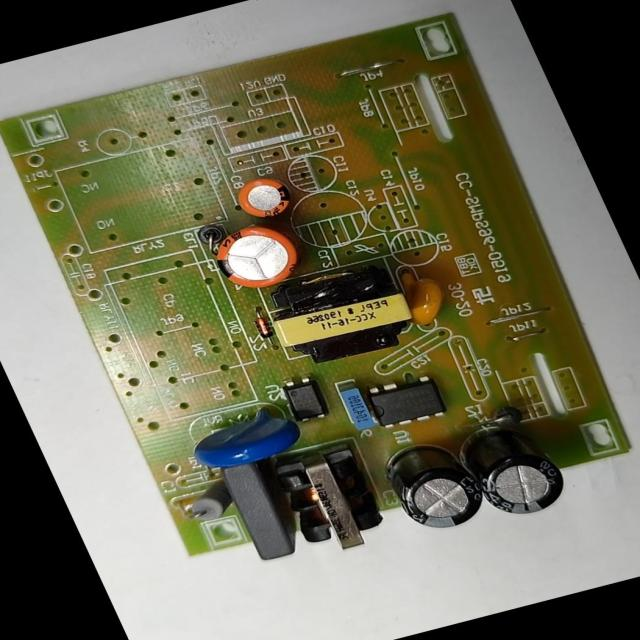Cap1: (202, 216, 308, 297)
Cap2: (230, 171, 299, 224)
Cap3: (373, 432, 497, 538)
Cap4: (456, 418, 577, 524)
MOSFET: (359, 373, 451, 435)
Mov: (178, 398, 310, 476)
Resistor: (178, 475, 239, 525)
Transformer: (258, 260, 430, 374), (267, 442, 400, 560)
